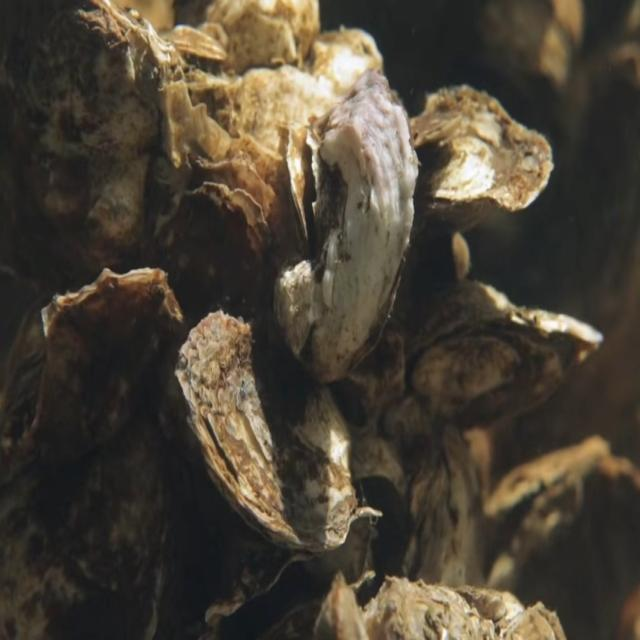Oyster-Closed: (0, 268, 184, 640), (275, 68, 419, 384), (174, 309, 358, 555), (404, 279, 640, 430), (410, 85, 554, 243), (398, 424, 488, 639)
Oyster-Indeterminate: (0, 1, 216, 380), (152, 180, 277, 330)
Oyster-Open: (479, 435, 639, 640), (204, 506, 383, 640)
